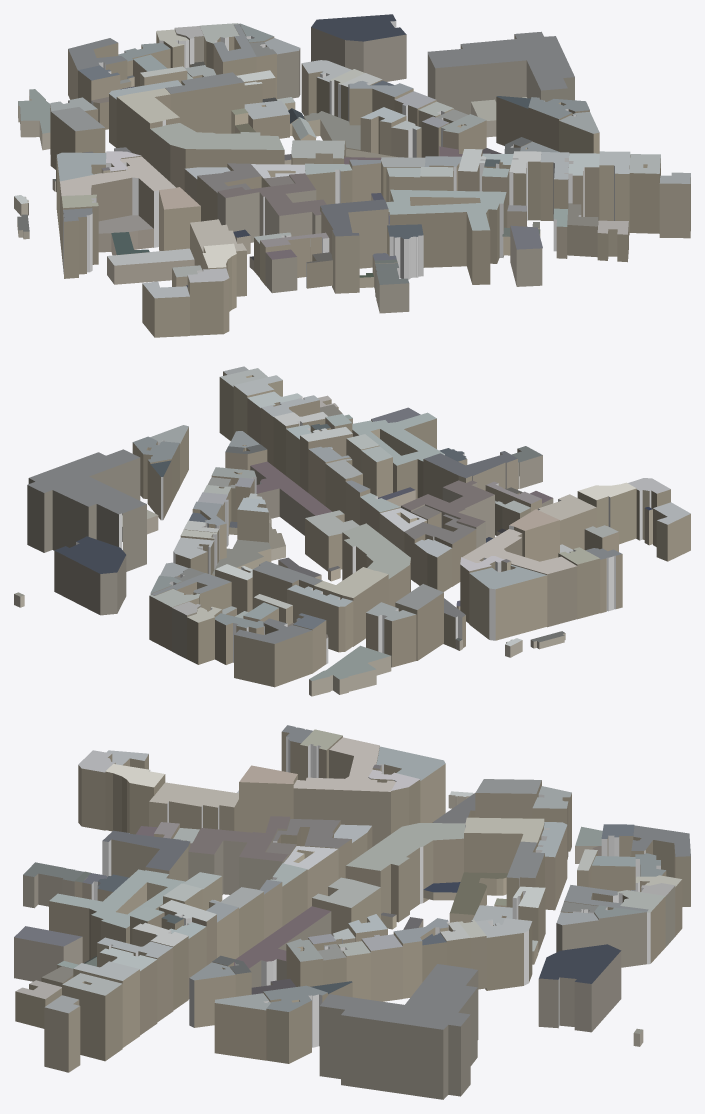
3 renders of one model, top to bottom at view 1: azimuth 30°, elevation 25°; view 2: azimuth 150°, elevation 25°; view 3: azimuth 270°, elevation 25°, orthographic. The views are drawn at different scales.
Parts seen in each view (by area): view 1: tuile; view 2: tuile; view 3: tuile.
Part boxes in pixels (x1,y1,x2,y2): tuile: [14, 14, 690, 337]; tuile: [14, 366, 690, 696]; tuile: [14, 725, 690, 1099].
Bounding box in the file's own units: 278 × 35.12 × 265.
